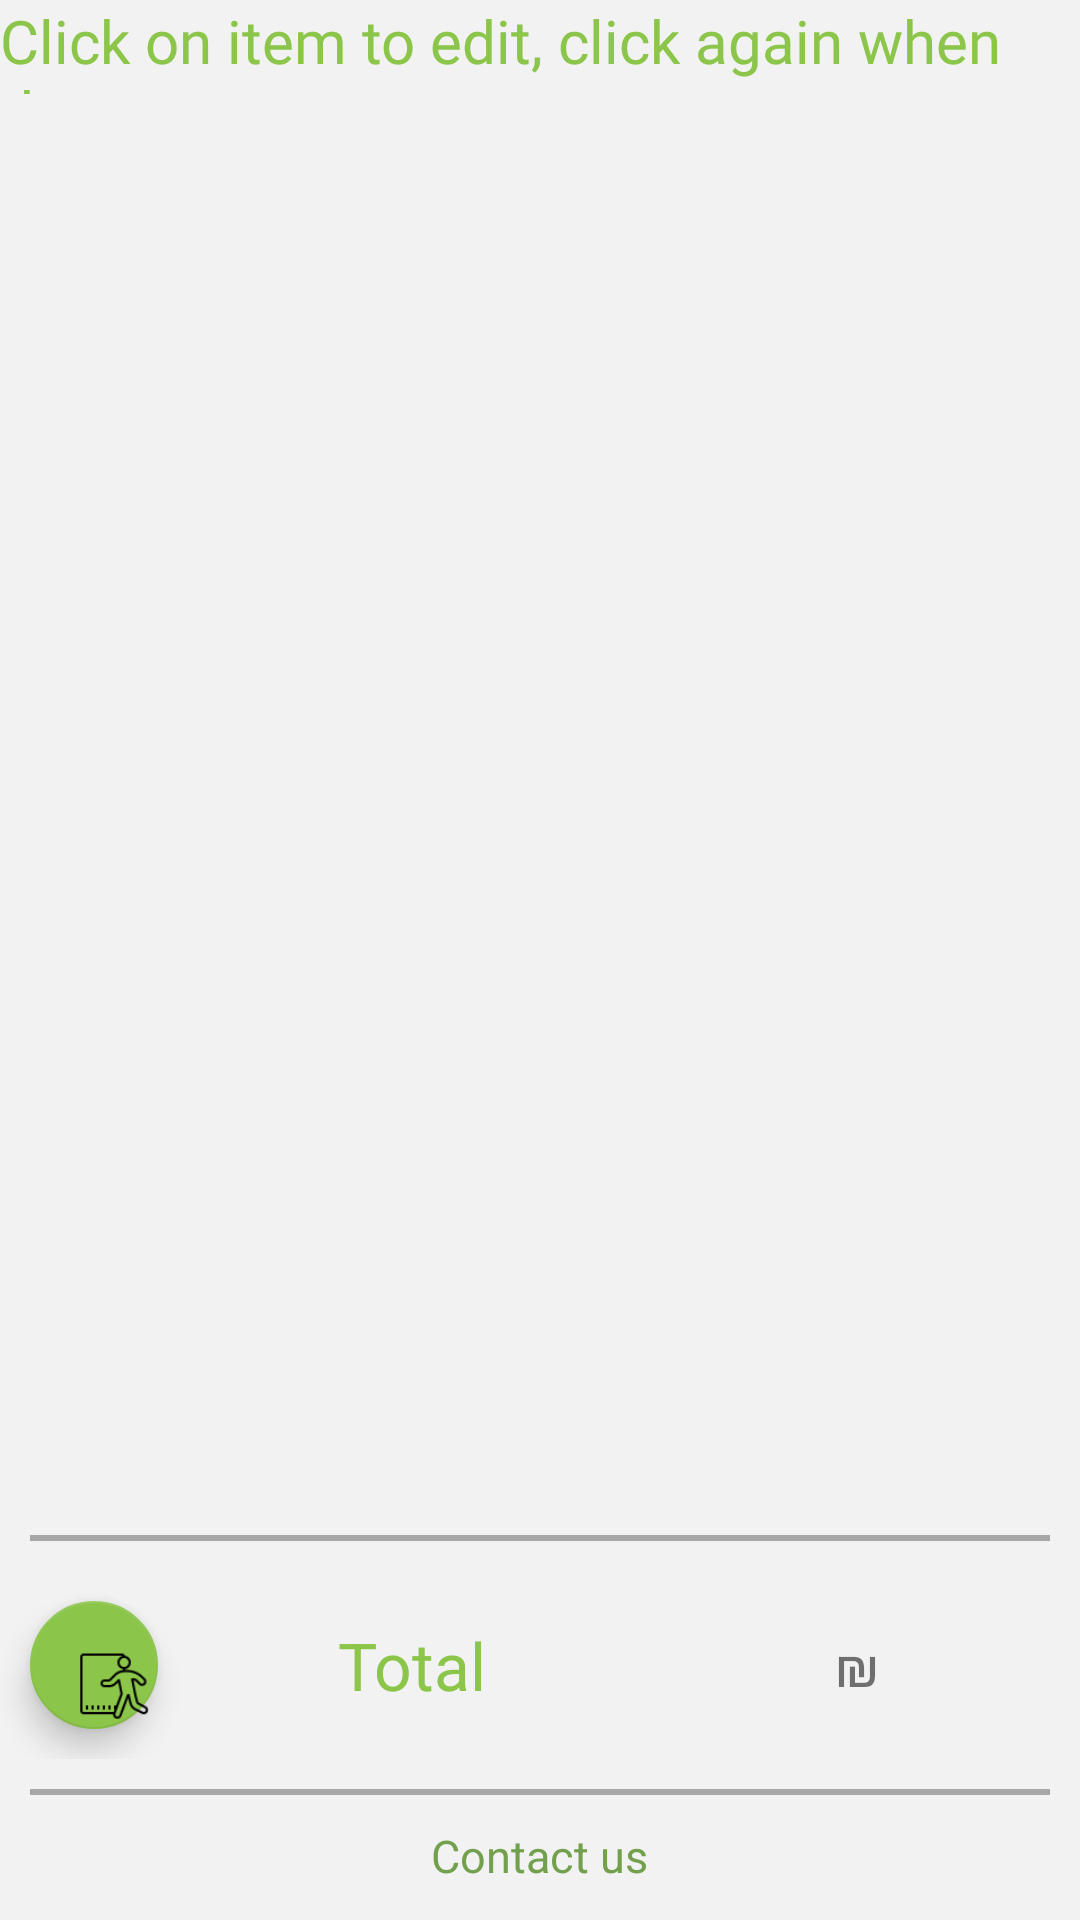

Icon bounding boxes for this 1080 × 1920 phone screenshot, format (x1,y1,x2,y2):
exit: (30,1601,158,1729)
